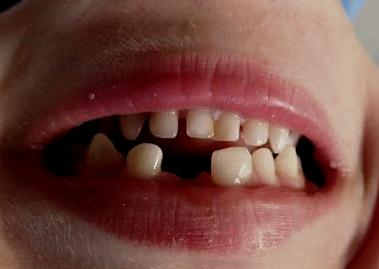Hypodontia: (156, 147, 223, 190)
